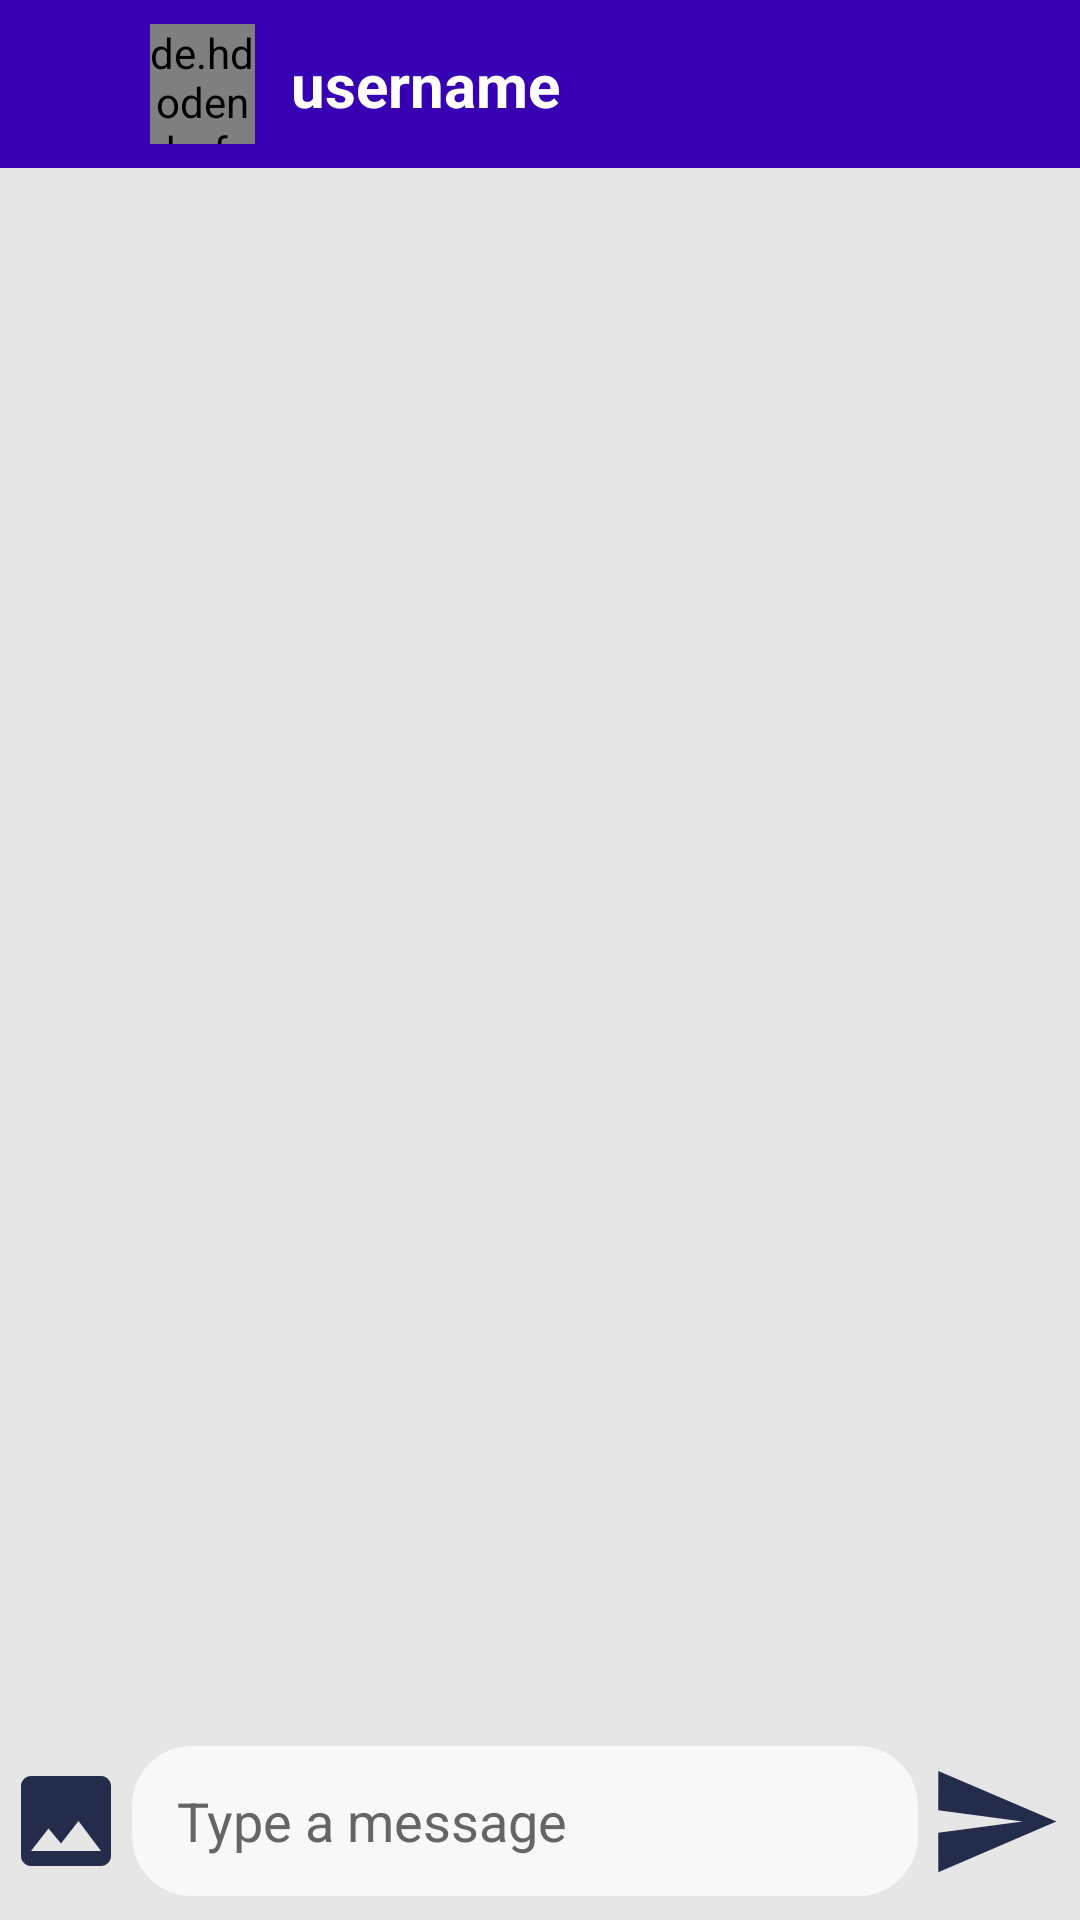

Named icons in this screenshot (1080×1920) and their centers, [x,y]:
send: [997,1821]
